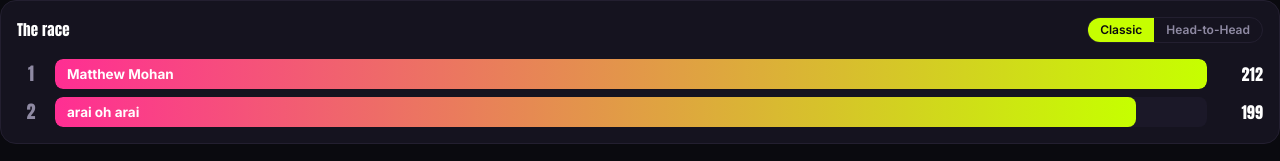
Test: switching to head-to-head shows h2h values
This screenshot has width=1280, height=161.
Click the button "Head-to-Head" at (1208, 30), box [1154,18,1262,42]
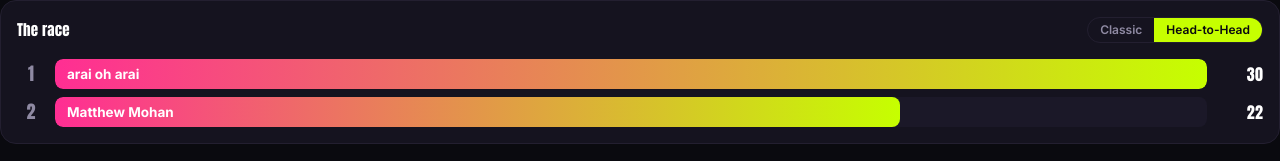
expect the text "30" is shown: met, box [1247,62,1263,86]
expect the text "22" is shown: met, box [1247,100,1263,124]
expect the button "212" is gone: met
